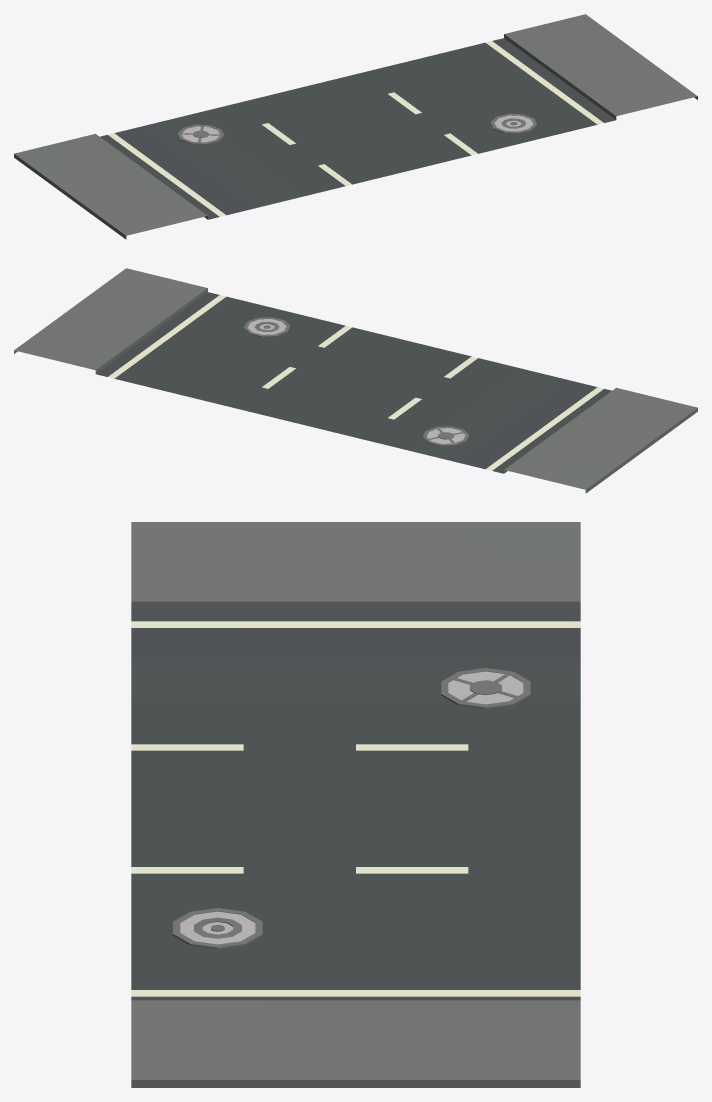
File: city_road_manhole_2.glb
3 views of the same model, one above another, from view 1: azimuth 30°, elevation 25°; view 2: azimuth 150°, elevation 25°; view 3: azimuth 270°, elevation 25° (orthographic). The views are drawn at different scales.
Visible parts, largest first — view 1: Road_Manhole_1; view 2: Road_Manhole_1; view 3: Road_Manhole_1.
Part boxes in pixels (x1=…): Road_Manhole_1: x1=14, y1=14, x2=697, y2=239; Road_Manhole_1: x1=14, y1=268, x2=697, y2=493; Road_Manhole_1: x1=131, y1=522, x2=580, y2=1087.
Size of the model in its own units: 6 by 0.0396 by 2.04.
Materials: 1 (1 with a texture image).
